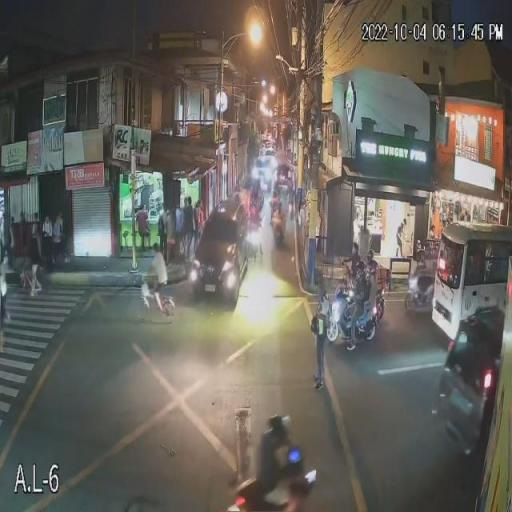helmet: (268, 414, 289, 434)
motorcycle: (226, 466, 320, 512), (323, 280, 384, 345), (271, 216, 285, 248)
rider: (256, 414, 309, 506), (346, 258, 372, 336), (333, 256, 354, 307), (270, 197, 284, 229)
